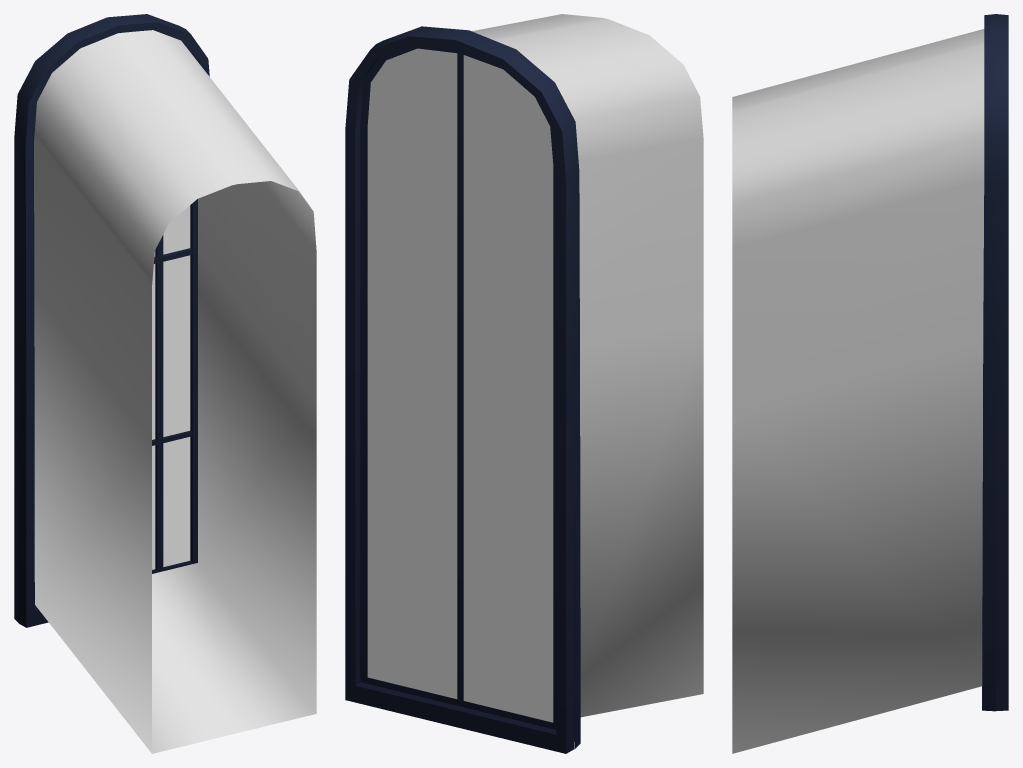
File: GenericShop_Window.fbx
The picture shows the model from 3 angles, left to right: view 1: azimuth 30°, elevation 25°; view 2: azimuth 150°, elevation 25°; view 3: azimuth 270°, elevation 25°; orthographic projection. The views are drawn at different scales.
Parts seen in each view (by area): view 1: SM_Bld_Casino_Window_02.002, SM_Bld_Casino_Window_02.001, SM_Bld_Casino_Window_Glass.001; view 2: SM_Bld_Casino_Window_Glass.001, SM_Bld_Casino_Window_02.002, SM_Bld_Casino_Window_02.001; view 3: SM_Bld_Casino_Window_02.002, SM_Bld_Casino_Window_02.001.
Boxes of the visible parts, x1=… form: SM_Bld_Casino_Window_02.002: x1=34, y1=30, x2=316, y2=753; SM_Bld_Casino_Window_02.001: x1=14, y1=14, x2=209, y2=627; SM_Bld_Casino_Window_Glass.001: x1=152, y1=205, x2=190, y2=569; SM_Bld_Casino_Window_Glass.001: x1=367, y1=48, x2=553, y2=722; SM_Bld_Casino_Window_02.002: x1=472, y1=14, x2=703, y2=717; SM_Bld_Casino_Window_02.001: x1=345, y1=26, x2=580, y2=753; SM_Bld_Casino_Window_02.002: x1=732, y1=29, x2=984, y2=753; SM_Bld_Casino_Window_02.001: x1=982, y1=14, x2=1008, y2=711.
Size of the model in its own units: 178 by 563 by 207.
